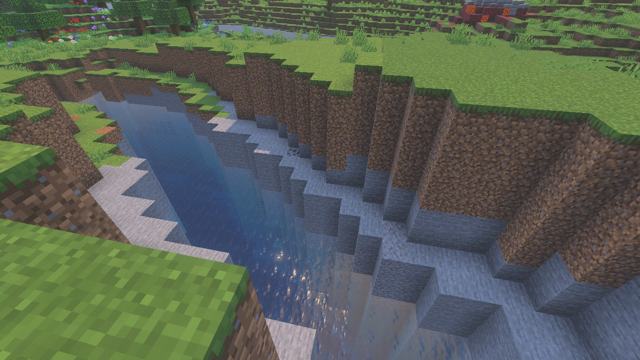coal: (284, 144, 302, 158)
